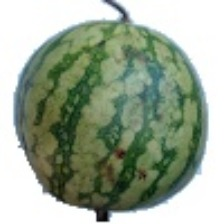watermelon: (59, 58, 193, 204)
